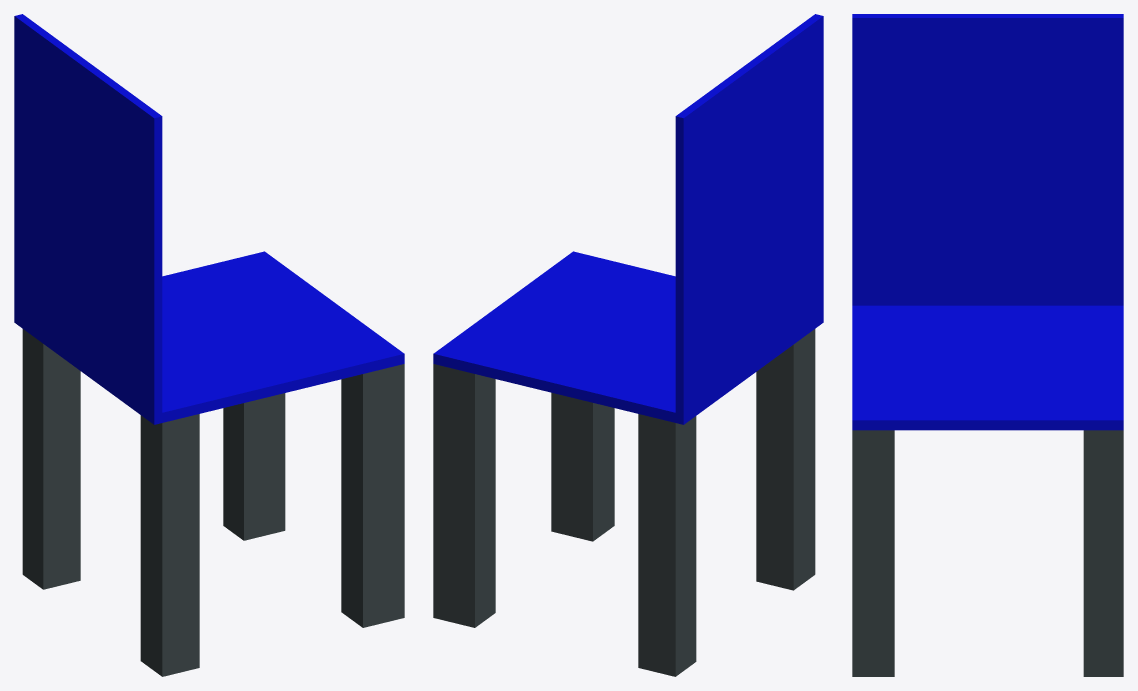
File: sillalinda.fbx
3 renders of one model, left to right at view 1: azimuth 30°, elevation 25°; view 2: azimuth 150°, elevation 25°; view 3: azimuth 270°, elevation 25°, orthographic. The views are drawn at different scales.
Parts seen in each view (by area): view 1: Cube; view 2: Cube; view 3: Cube.
Part boxes in pixels (x1,y1,x2,y2): Cube: (14,14,404,676); Cube: (433,14,823,676); Cube: (852,14,1123,676).
Bounding box in the file's own units: 207 × 443 × 200.
